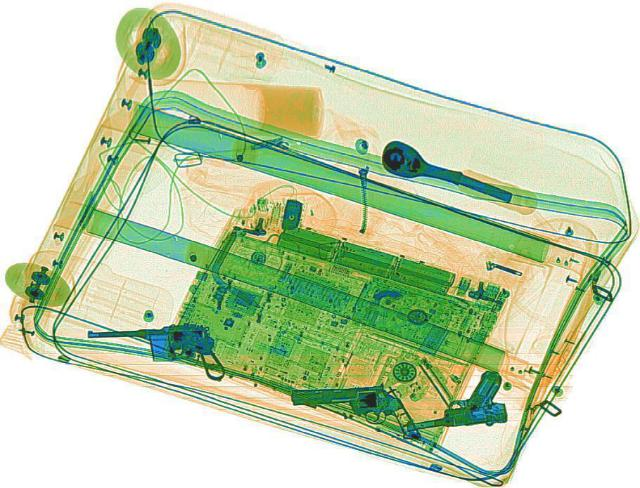Gun: (84, 321, 226, 386), (398, 367, 518, 432), (290, 382, 418, 440)
